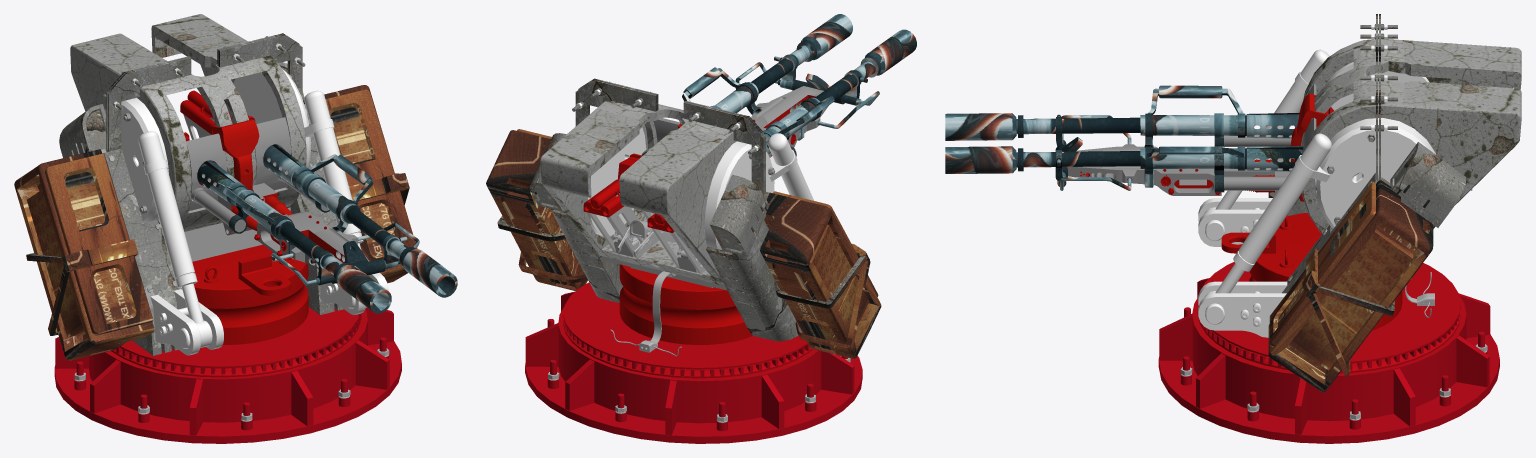
The model's file is basic_tower.glb.
3 views of the same model, side by side, from view 1: azimuth 30°, elevation 25°; view 2: azimuth 150°, elevation 25°; view 3: azimuth 270°, elevation 25° (orthographic). The views are drawn at different scales.
Parts seen in each view (by area): view 1: Rog49_low, Rog17_low, Rog1_low, Rog3_low, Rog46_low, Rog21_low, Rog5_low, Rog12_low, Rog47_low, Rog16_low, Rog7_low, polySurface3 (+22 smaller); view 2: Rog49_low, Rog17_low, Rog3_low, Rog47_low, Rog5_low, Rog46_low, Rog21_low, Rog6_low, Rog8_low, Rog16_low, Rog4_low, Rog55_low (+18 smaller); view 3: Rog49_low, Rog17_low, Rog3_low, Rog21_low, Rog16_low, Rog47_low, polySurface3, Rog12_low, Rog6_low, Rog1_low, Rog30_low, Rog46_low (+15 smaller).
Boxes of the visible parts, x1=… form: Rog49_low: x1=54, y1=307, x2=401, y2=443; Rog17_low: x1=70, y1=14, x2=306, y2=231; Rog1_low: x1=45, y1=89, x2=416, y2=335; Rog3_low: x1=14, y1=85, x2=417, y2=360; Rog46_low: x1=192, y1=244, x2=308, y2=344; Rog21_low: x1=231, y1=170, x2=457, y2=313; Rog5_low: x1=103, y1=104, x2=343, y2=355; Rog12_low: x1=138, y1=90, x2=363, y2=288; Rog47_low: x1=119, y1=307, x2=359, y2=368; Rog16_low: x1=105, y1=69, x2=310, y2=222; Rog7_low: x1=108, y1=34, x2=302, y2=151; polySurface3: x1=150, y1=262, x2=389, y2=355; Rog49_low: x1=525, y1=291, x2=862, y2=443; Rog17_low: x1=540, y1=100, x2=767, y2=285; Rog3_low: x1=486, y1=130, x2=881, y2=358; Rog47_low: x1=563, y1=282, x2=808, y2=369; Rog5_low: x1=550, y1=191, x2=802, y2=341; Rog46_low: x1=619, y1=264, x2=752, y2=344; Rog21_low: x1=714, y1=14, x2=916, y2=148; Rog6_low: x1=529, y1=133, x2=769, y2=256; Rog8_low: x1=575, y1=79, x2=764, y2=194; Rog16_low: x1=586, y1=127, x2=774, y2=250; Rog4_low: x1=497, y1=216, x2=870, y2=351; Rog55_low: x1=588, y1=193, x2=705, y2=273; Rog49_low: x1=1158, y1=278, x2=1499, y2=443; Rog17_low: x1=1301, y1=38, x2=1521, y2=233; Rog3_low: x1=1268, y1=180, x2=1433, y2=392; Rog21_low: x1=945, y1=113, x2=1246, y2=173; Rog16_low: x1=1316, y1=62, x2=1436, y2=228; Rog47_low: x1=1197, y1=262, x2=1460, y2=363; polySurface3: x1=1198, y1=198, x2=1287, y2=337; Rog12_low: x1=1233, y1=49, x2=1331, y2=271; Rog6_low: x1=1390, y1=142, x2=1466, y2=227; Rog1_low: x1=1269, y1=181, x2=1375, y2=347; Rog30_low: x1=1067, y1=144, x2=1290, y2=197; Rog46_low: x1=1249, y1=213, x2=1402, y2=330.
Size of the model in its own units: 8.08 by 6.79 by 11.35.
12 materials, 4 textured.
